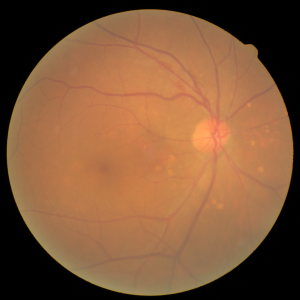cataract: (70, 85, 261, 203)
